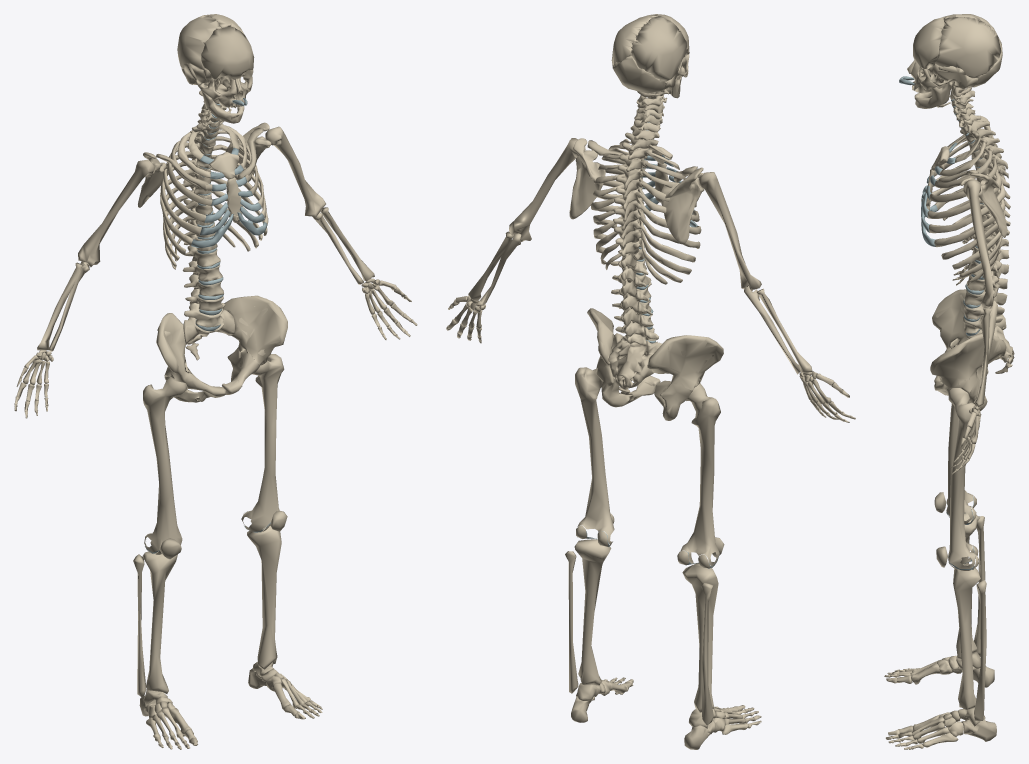
File: f-skeleton.glb
3 views of the same model, side by side, from view 1: azimuth 30°, elevation 25°; view 2: azimuth 150°, elevation 25°; view 3: azimuth 270°, elevation 25° (orthographic). The views are drawn at different scales.
Visible parts, largest first — view 1: bone; view 2: bone; view 3: bone.
Part boxes in pixels (x1,y1,x2,y2): bone: (14, 14, 417, 749); bone: (446, 14, 855, 749); bone: (884, 14, 1014, 749).
Size of the model in its own units: 1.01 by 1.66 by 0.2809.
